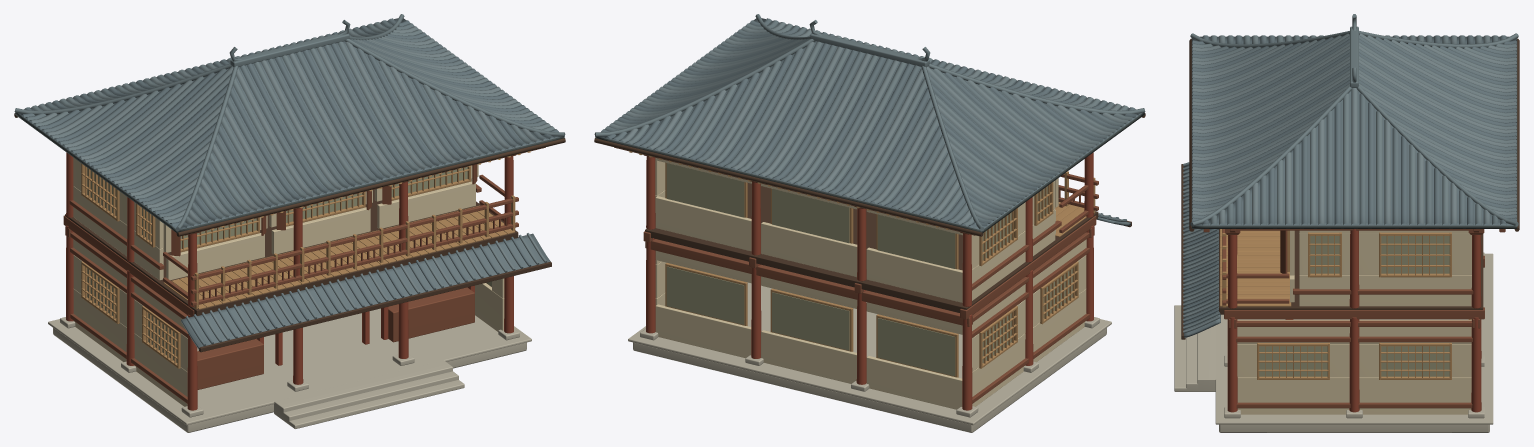
Rendered from runtime.glb.
3 views of the same model, side by side, from view 1: azimuth 30°, elevation 25°; view 2: azimuth 150°, elevation 25°; view 3: azimuth 270°, elevation 25° (orthographic).
Parts seen in each view (by area): view 1: runtime-Pale worn stone, runtime-Grey clay tile 0, runtime-Grey clay tile 2, runtime-Warm weathered structural timber, runtime-Warm lime plaster, runtime-Grey clay tile 3, runtime-Grey clay tile 1, runtime-Freshly cut end grain and joinery, tile1-curved hip roof shell, runtime-Recessed dark timber, runtime-Muted vermilion columns, tile1-curved hip roof shell.002 (+1 smaller); view 2: runtime-Warm lime plaster, runtime-Muted window paper, runtime-Grey clay tile 2, runtime-Grey clay tile 0, runtime-Grey clay tile 3, runtime-Grey clay tile 1, runtime-Pale worn stone, tile1-curved hip roof shell.001, runtime-Warm weathered structural timber, runtime-Muted vermilion columns, runtime-Freshly cut end grain and joinery, runtime-Recessed dark timber (+1 smaller); view 3: runtime-Grey clay tile 2, runtime-Warm lime plaster, runtime-Grey clay tile 0, runtime-Grey clay tile 3, runtime-Grey clay tile 1, runtime-Pale worn stone, runtime-Warm weathered structural timber, runtime-Freshly cut end grain and joinery, tile1-curved hip roof shell.003, runtime-Muted window paper, runtime-Muted vermilion columns, runtime-Recessed dark timber (+3 smaller).
Boxes of the visible parts, left/top/right/bottom form: runtime-Pale worn stone: left=48, top=308, right=531, bottom=432; runtime-Grey clay tile 0: left=25, top=20, right=550, bottom=349; runtime-Grey clay tile 2: left=14, top=14, right=565, bottom=342; runtime-Warm weathered structural timber: left=63, top=147, right=545, bottom=403; runtime-Warm lime plaster: left=73, top=157, right=504, bottom=406; runtime-Grey clay tile 3: left=29, top=22, right=550, bottom=340; runtime-Grey clay tile 1: left=21, top=18, right=558, bottom=344; runtime-Freshly cut end grain and joinery: left=81, top=151, right=530, bottom=368; tile1-curved hip roof shell: left=178, top=41, right=564, bottom=232; runtime-Recessed dark timber: left=14, top=113, right=565, bottom=352; runtime-Muted vermilion columns: left=66, top=152, right=513, bottom=410; tile1-curved hip roof shell.002: left=15, top=68, right=231, bottom=233; runtime-Warm lime plaster: left=655, top=158, right=1086, bottom=409; runtime-Muted window paper: left=666, top=163, right=1072, bottom=376; runtime-Grey clay tile 2: left=594, top=14, right=1145, bottom=231; runtime-Grey clay tile 0: left=605, top=20, right=1130, bottom=225; runtime-Grey clay tile 3: left=609, top=22, right=1130, bottom=224; runtime-Grey clay tile 1: left=601, top=18, right=1138, bottom=227; runtime-Pale worn stone: left=628, top=282, right=1111, bottom=432; tile1-curved hip roof shell.001: left=595, top=41, right=981, bottom=232; runtime-Warm weathered structural timber: left=614, top=147, right=1098, bottom=403; runtime-Muted vermilion columns: left=646, top=152, right=1093, bottom=410; runtime-Freshly cut end grain and joinery: left=629, top=151, right=1095, bottom=377; runtime-Recessed dark timber: left=594, top=113, right=1145, bottom=312; runtime-Grey clay tile 2: left=1183, top=14, right=1518, bottom=329; runtime-Warm lime plaster: left=1237, top=230, right=1471, bottom=414; runtime-Grey clay tile 0: left=1183, top=35, right=1516, bottom=337; runtime-Grey clay tile 3: left=1183, top=33, right=1516, bottom=333; runtime-Grey clay tile 1: left=1183, top=35, right=1516, bottom=325; runtime-Pale worn stone: left=1174, top=252, right=1493, bottom=432; runtime-Warm weathered structural timber: left=1203, top=229, right=1505, bottom=408; runtime-Freshly cut end grain and joinery: left=1220, top=229, right=1471, bottom=379; tile1-curved hip roof shell.003: left=1192, top=90, right=1516, bottom=228; runtime-Muted window paper: left=1259, top=236, right=1449, bottom=376; runtime-Muted vermilion columns: left=1227, top=229, right=1481, bottom=412; runtime-Recessed dark timber: left=1181, top=38, right=1519, bottom=339.
Bounding box in the file's own units: 13.3 × 10.09 × 10.2.
